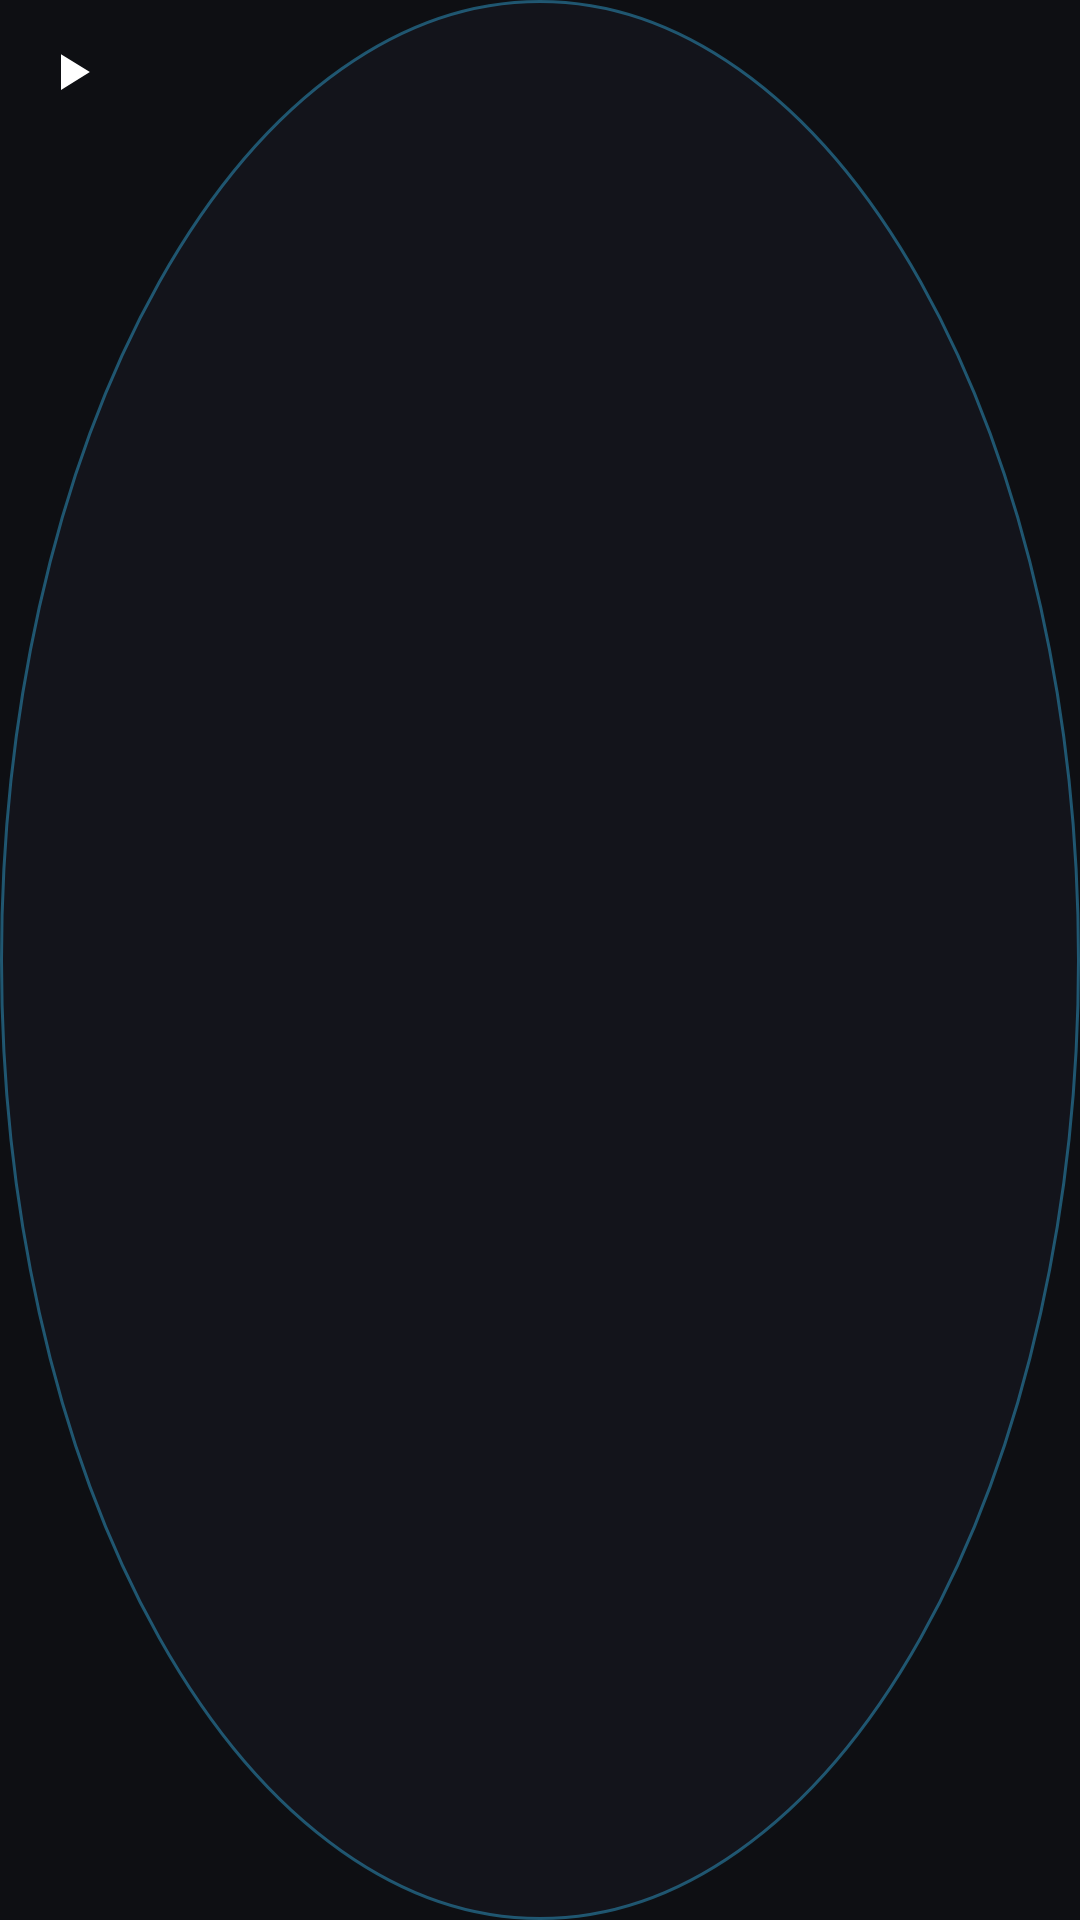

Icons on this 1080 × 1920 Android screen, each with the point to tap as (x,y):
play: (75,72)
